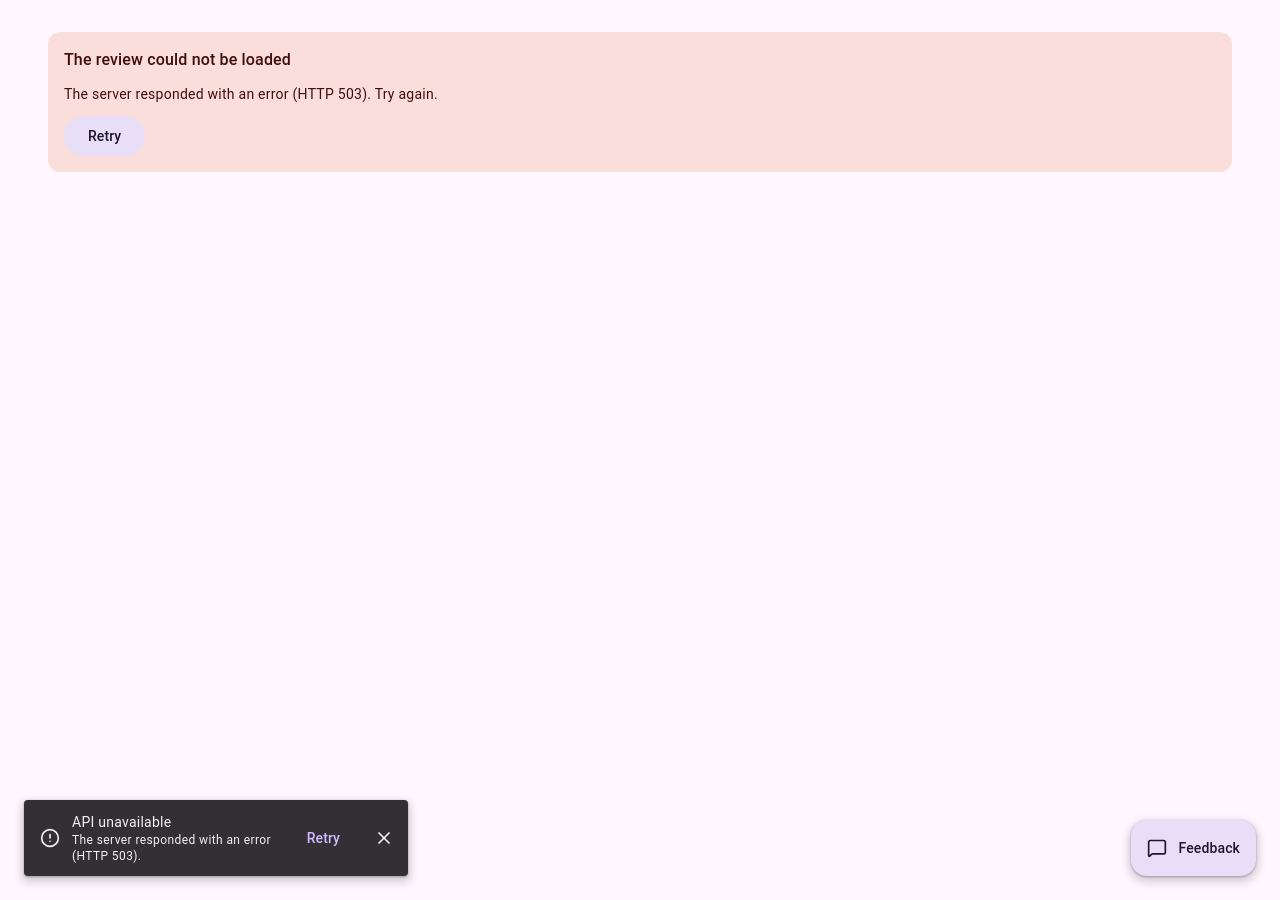
Test: Feedback › sees that feedback was not sent when the API is down
Click the button "Feedback" at (1193, 848), box [1131,820,1256,876]
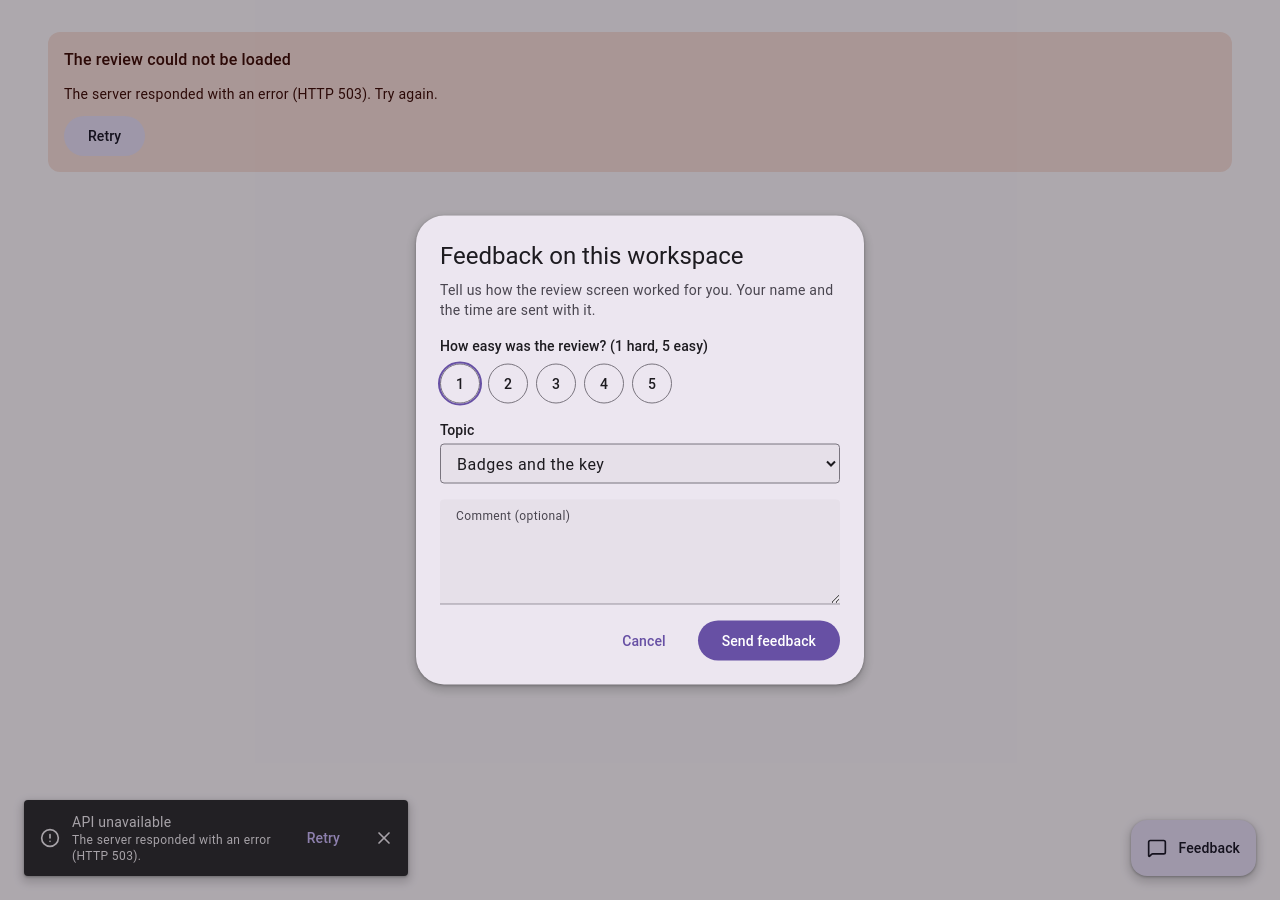
Click the radio button labelled "4" at (604, 384), box [584,364,624,404]
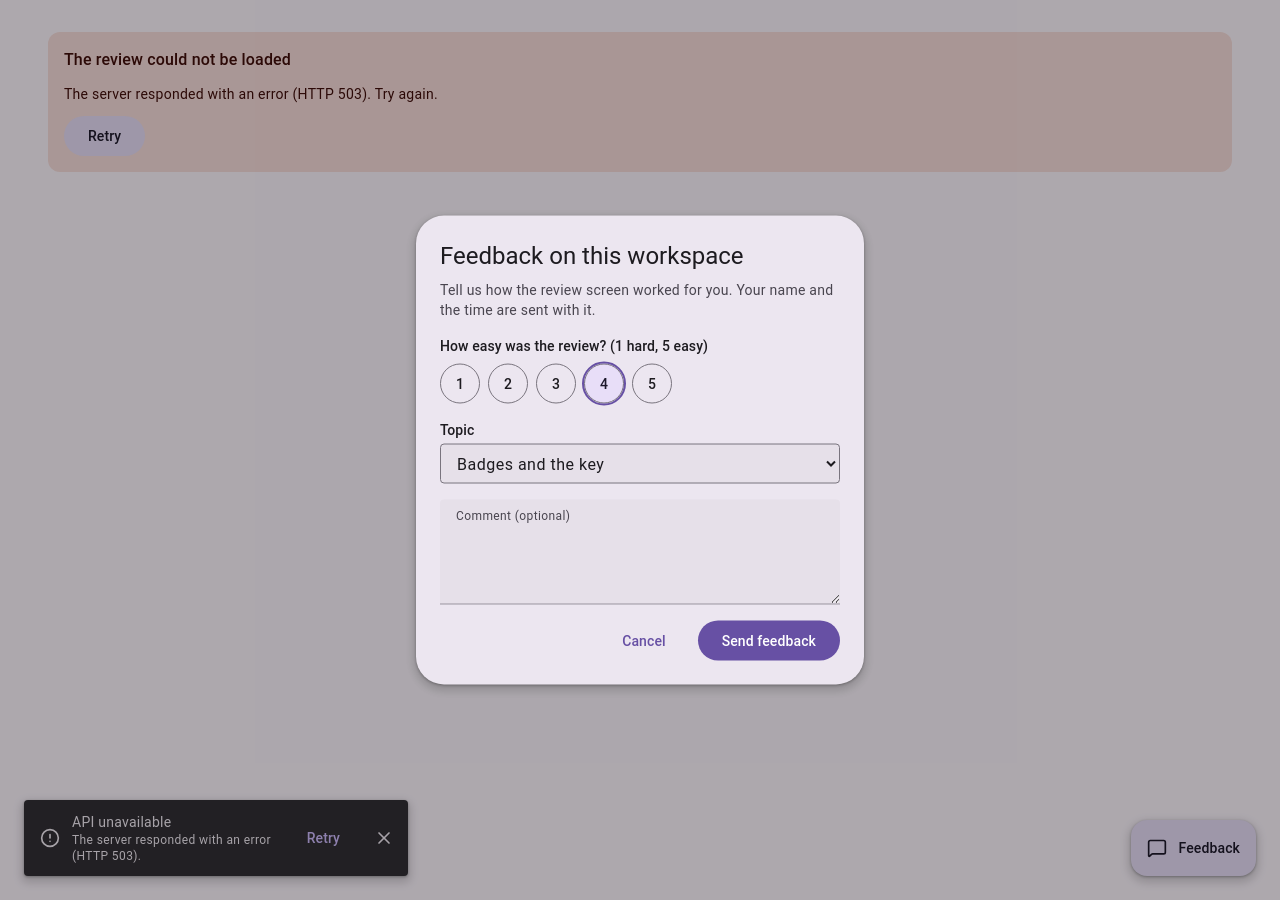
Select "Sources and quotes" in the dropdown labelled "Topic" at (640, 464), box [440,444,840,484]
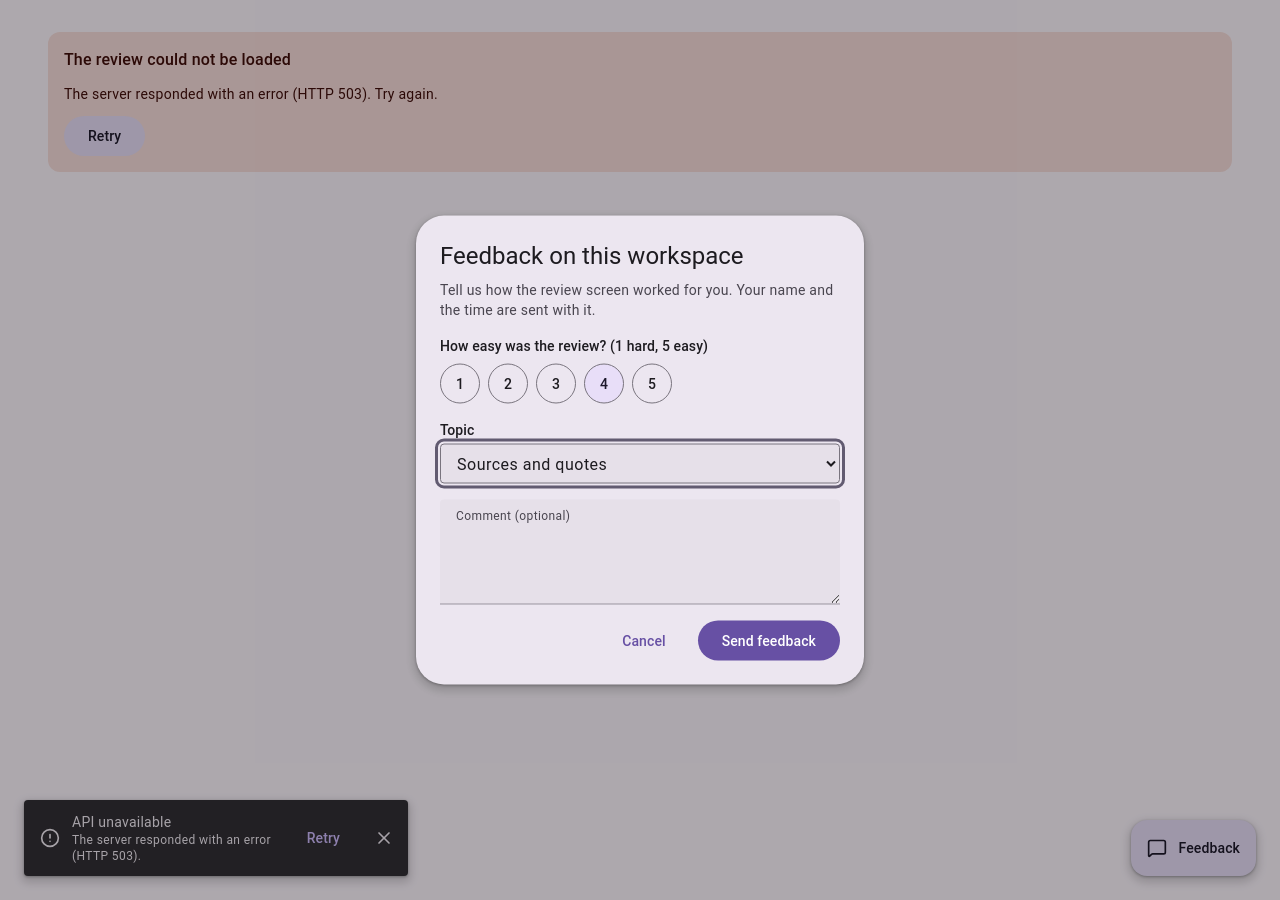
Type "Quotes are easy to find." into the text box labelled "Comment (optional)" at (640, 564), box [440,524,840,604]
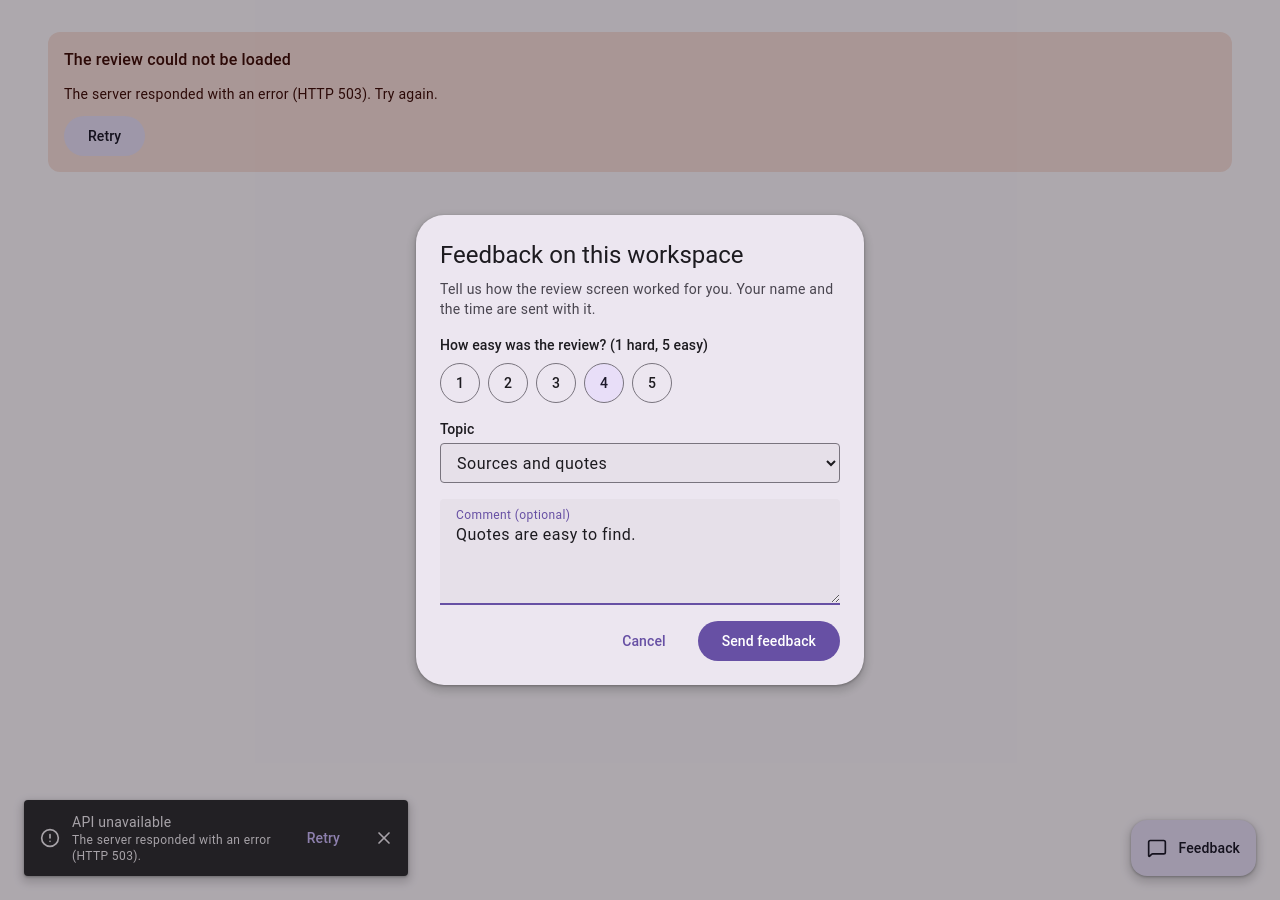
Click the button "Send feedback" at (769, 641), box [698,621,840,661]
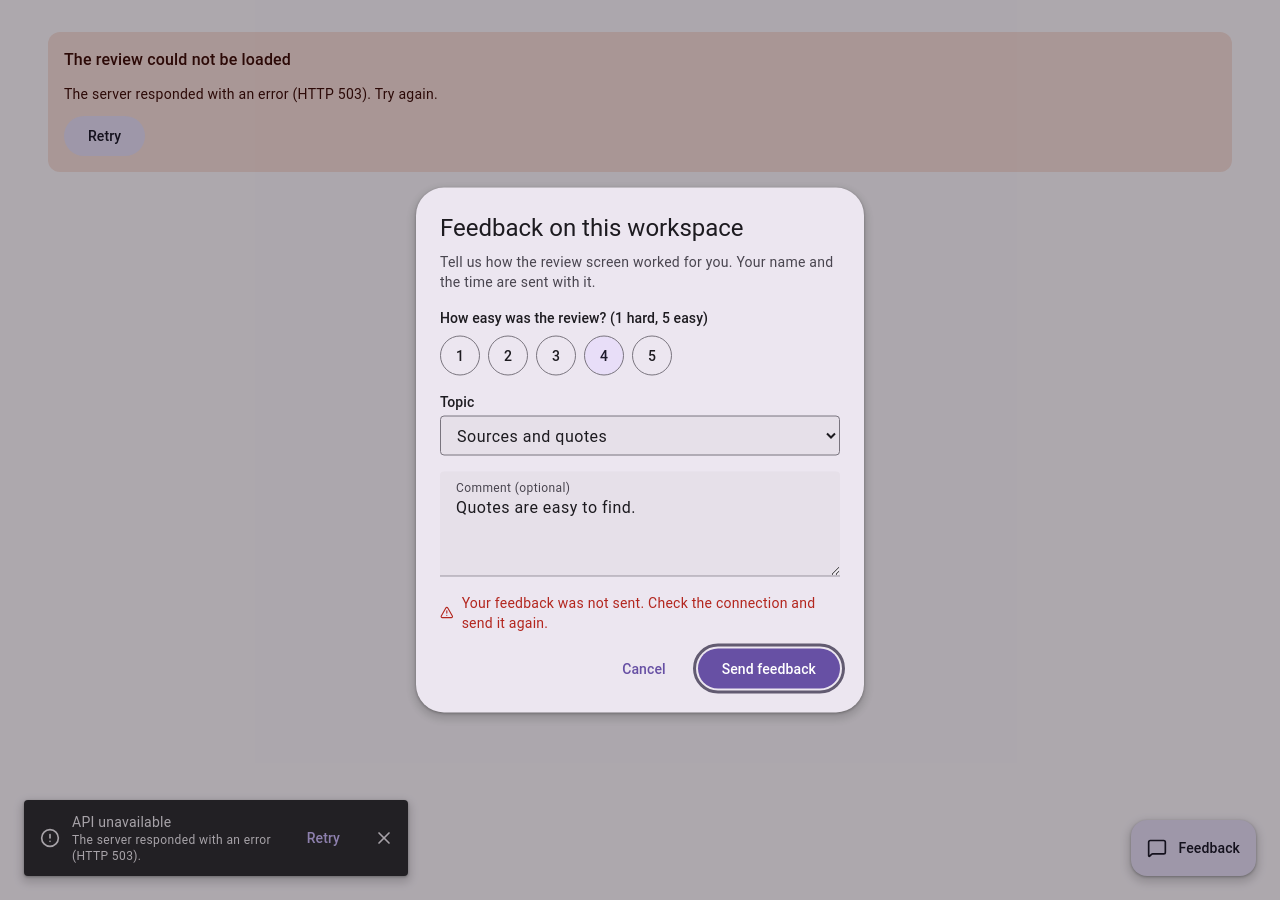
expect the message shows "was not sent": met, box [462,594,815,630]
